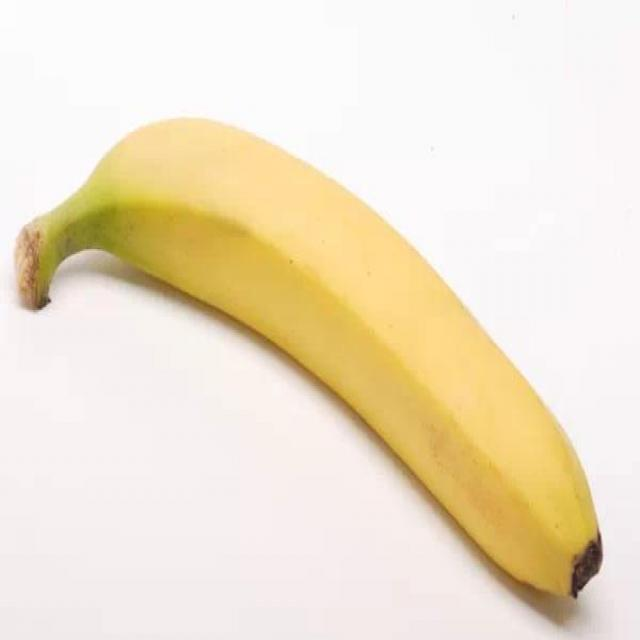Banana: (7, 116, 605, 609)
